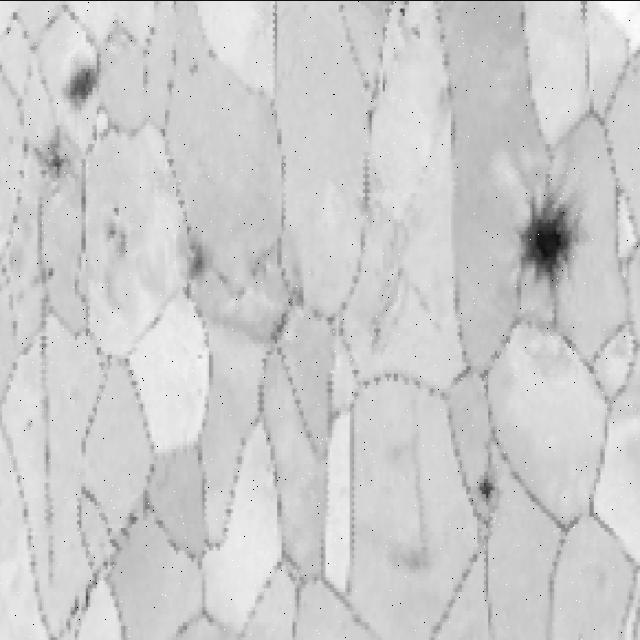good_void: (504, 168, 577, 302), (28, 116, 77, 194), (275, 259, 313, 327), (59, 52, 102, 112), (99, 195, 134, 259), (176, 238, 207, 309), (390, 0, 425, 47), (468, 468, 504, 513), (365, 298, 393, 351), (40, 255, 62, 293)
